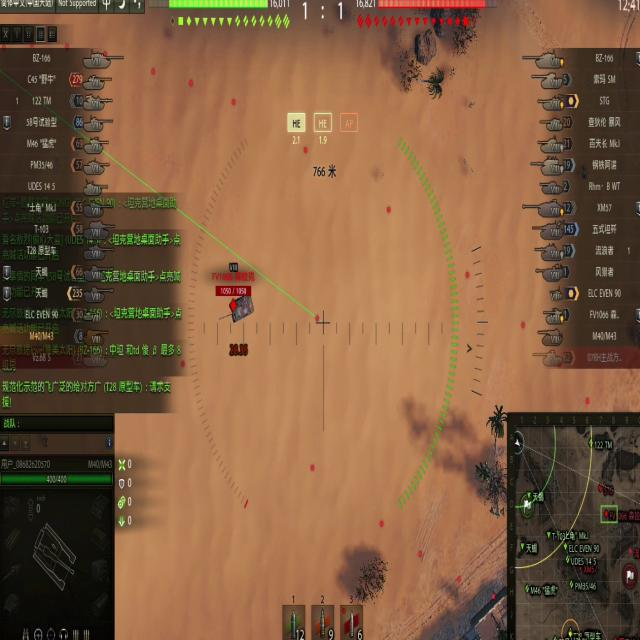tank: (218, 286, 258, 323)
